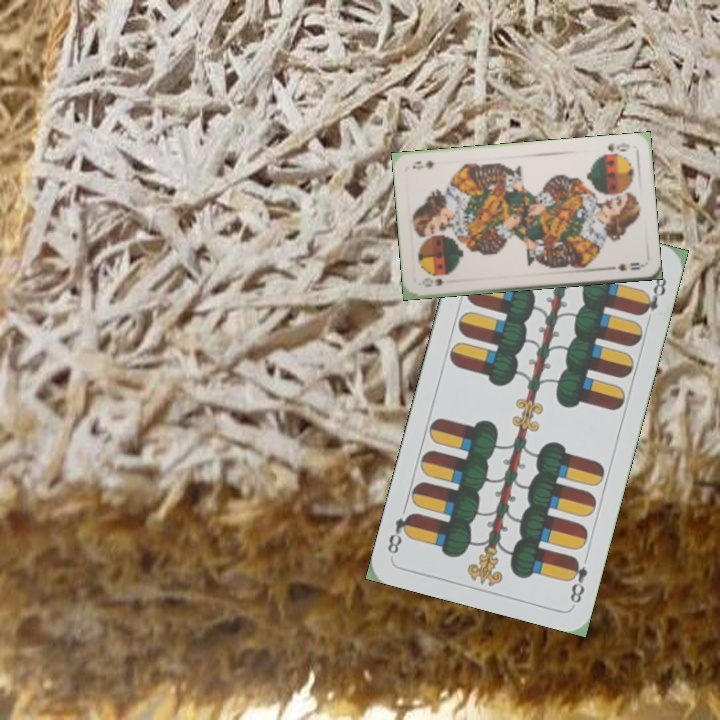E8: (564, 553, 590, 606)
SO: (599, 138, 633, 158), (418, 274, 446, 289)
